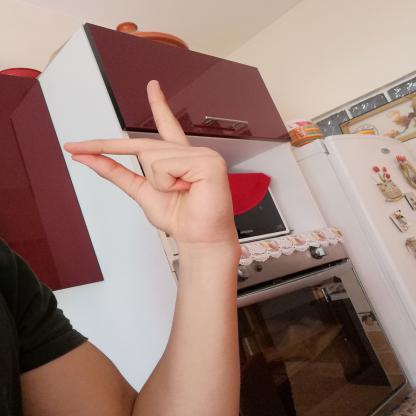TAA: (54, 70, 249, 250)
